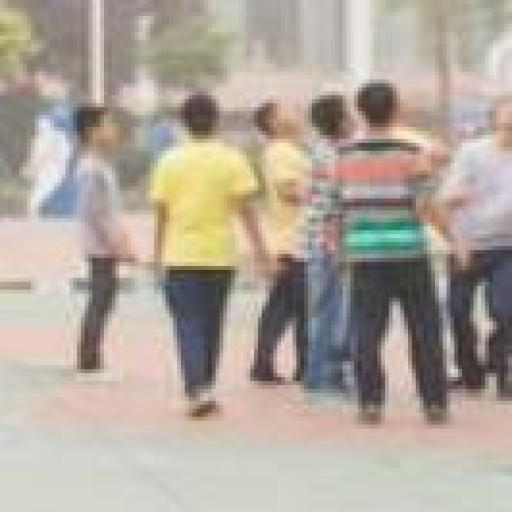person: (335, 84, 465, 424), (151, 92, 269, 416), (443, 96, 511, 396), (74, 108, 134, 373), (251, 104, 307, 384), (301, 92, 350, 392)
